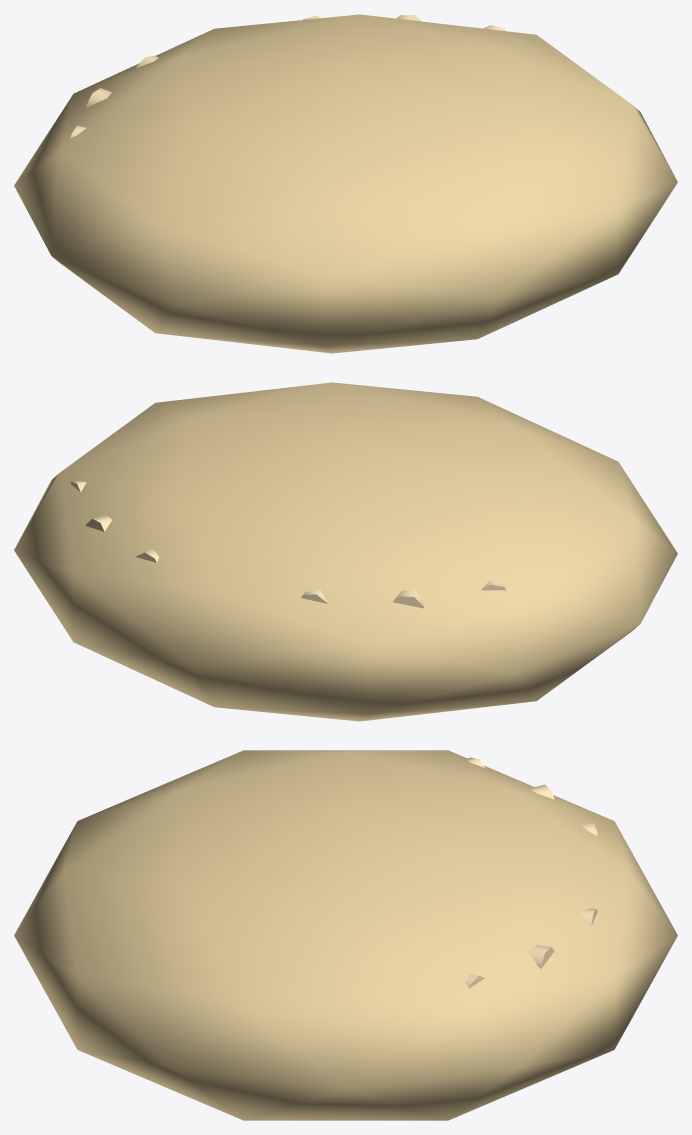
The model's file is clam-shell.glb.
The picture shows the model from 3 angles, top to bottom: view 1: azimuth 30°, elevation 25°; view 2: azimuth 150°, elevation 25°; view 3: azimuth 270°, elevation 25°; orthographic projection. The views are drawn at different scales.
Visible parts, largest first — view 1: shell; view 2: shell; view 3: shell.
Part boxes in pixels (bbox=[...]): shell: bbox=[14, 14, 677, 353]; shell: bbox=[14, 382, 677, 721]; shell: bbox=[14, 750, 677, 1120].
Size of the model in its own units: 0.66 by 0.24 by 0.6.
